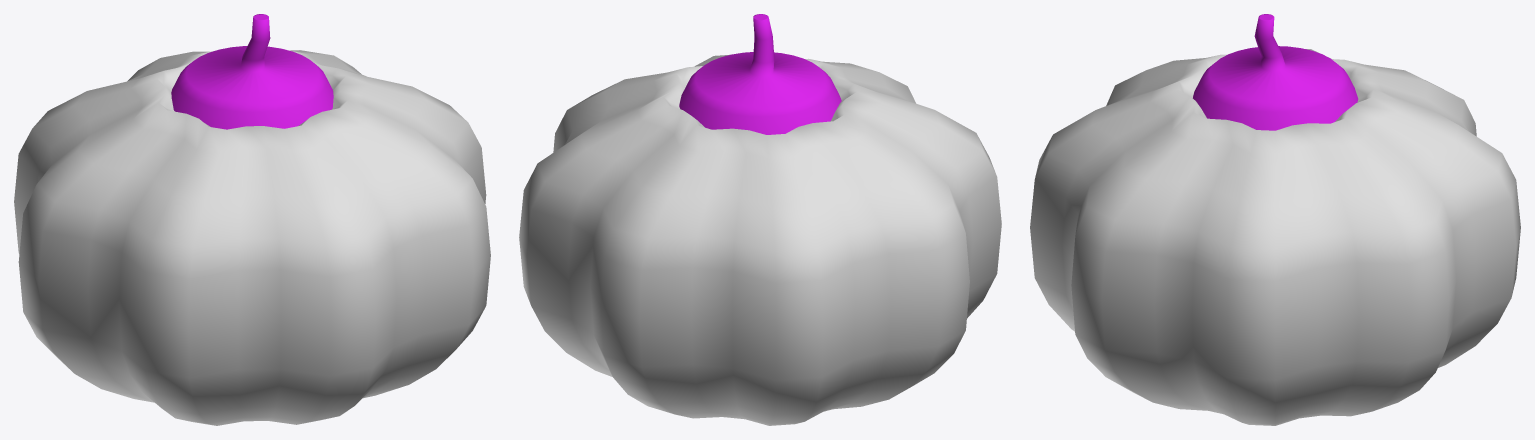
File: pumpkinFix.fbx
3 views of the same model, side by side, from view 1: azimuth 30°, elevation 25°; view 2: azimuth 150°, elevation 25°; view 3: azimuth 270°, elevation 25° (orthographic). The views are drawn at different scales.
Parts seen in each view (by area): view 1: Sphere; view 2: Sphere; view 3: Sphere.
Boxes of the visible parts, bbox=[...] form: Sphere: bbox=[14, 14, 490, 425]; Sphere: bbox=[519, 14, 1001, 425]; Sphere: bbox=[1030, 14, 1520, 425].
Bounding box in the file's own units: 3.14 × 2.58 × 3.14.
